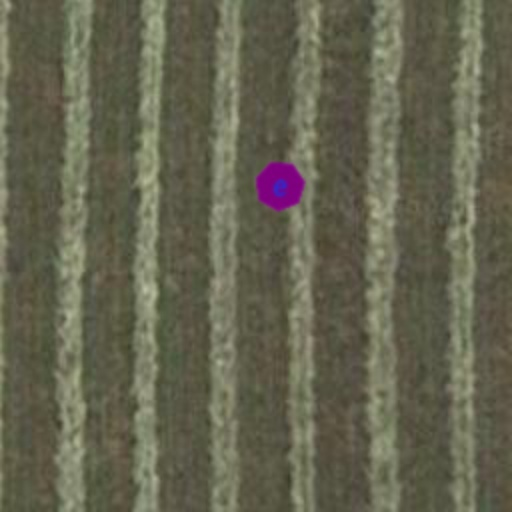heptagon: (250, 156, 310, 216)
